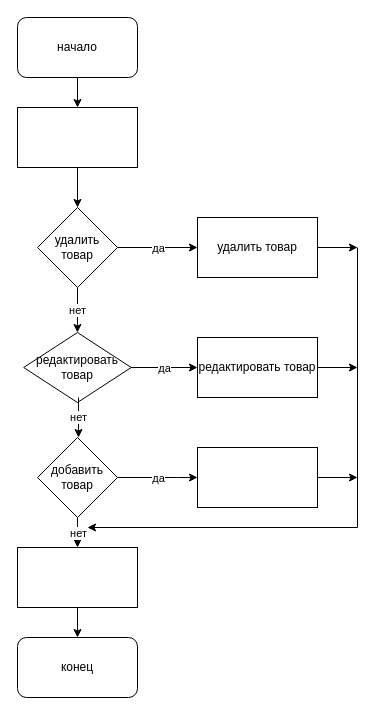
Image size: 383x715. Some labels were removed from this diagram. The shapes that lost their labels are listed below. From the top down, each one's centre as x and y in pixels, then its label:
the point at 77,137: авторизация
the point at 257,477: добавить новый товар
the point at 77,577: сохранить изменения
